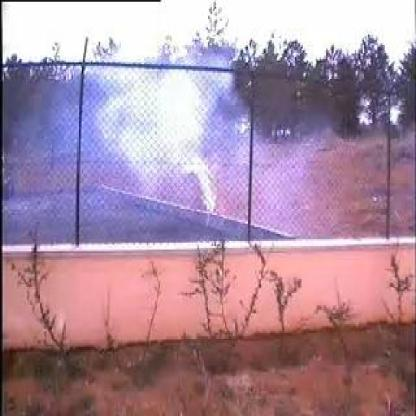-: (50, 58, 244, 238)
